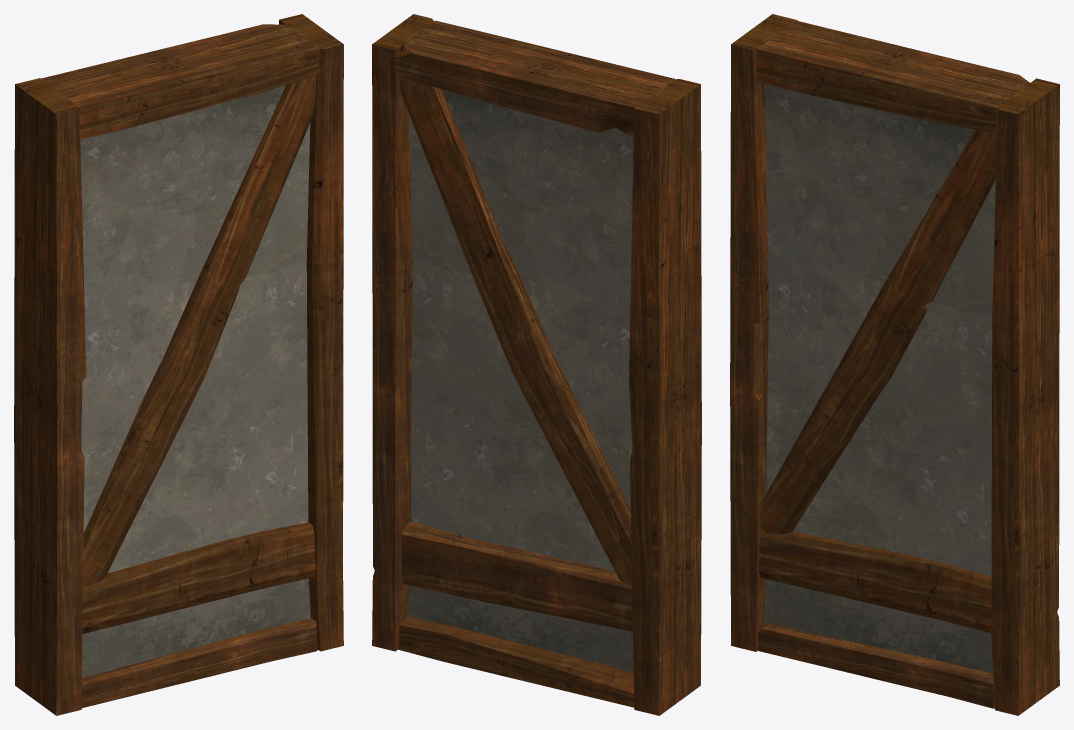
3 views of the same model, side by side, from view 1: azimuth 30°, elevation 25°; view 2: azimuth 150°, elevation 25°; view 3: azimuth 330°, elevation 25° (orthographic).
Parts seen in each view (by area): view 1: SM_BB_T2_Wall_Large_Narrow_LOD0; view 2: SM_BB_T2_Wall_Large_Narrow_LOD0; view 3: SM_BB_T2_Wall_Large_Narrow_LOD0.
Boxes of the visible parts, x1,y1,x2,y2 form: SM_BB_T2_Wall_Large_Narrow_LOD0: (14, 14, 343, 715); SM_BB_T2_Wall_Large_Narrow_LOD0: (372, 14, 701, 715); SM_BB_T2_Wall_Large_Narrow_LOD0: (730, 14, 1059, 715).
Size of the model in its own units: 1.5 by 3 by 0.3913.
2 materials, 2 textured.
